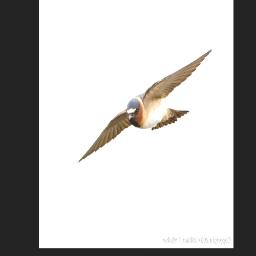Swallow: (77, 44, 214, 162)
